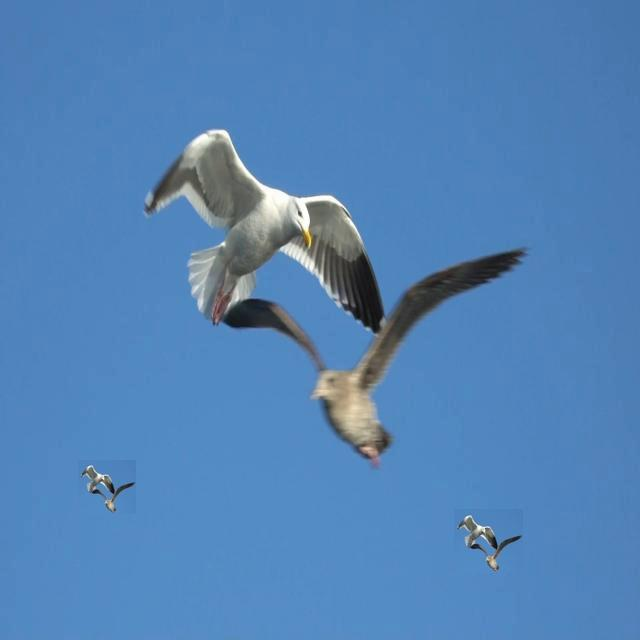bird: (220, 247, 531, 473), (141, 115, 392, 345), (468, 534, 528, 574), (90, 480, 138, 516), (457, 514, 500, 552), (81, 463, 118, 497)
